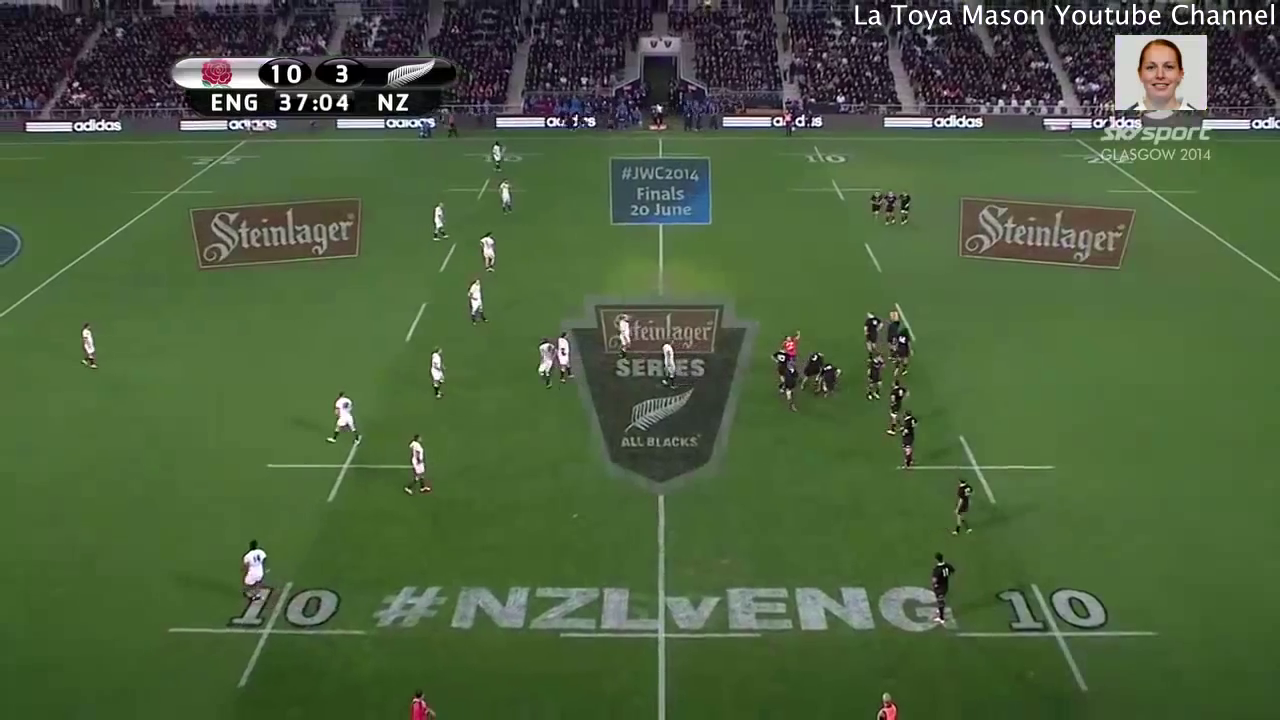10_metre: (936, 570, 1162, 695), (162, 575, 377, 688), (894, 431, 1064, 507), (262, 434, 428, 501), (788, 174, 892, 208), (778, 140, 864, 168)
player: (235, 524, 273, 617), (924, 552, 957, 633), (402, 424, 438, 496), (323, 388, 364, 448), (949, 471, 979, 540), (423, 343, 455, 405), (552, 326, 582, 388), (75, 318, 105, 379), (885, 375, 910, 447), (476, 228, 504, 284), (856, 307, 885, 359), (461, 278, 491, 328), (656, 338, 682, 392), (425, 197, 455, 242), (896, 188, 924, 234), (533, 336, 557, 389), (901, 408, 920, 473), (613, 308, 637, 357), (800, 344, 823, 392), (881, 305, 899, 364), (894, 328, 917, 374), (861, 354, 881, 405), (495, 174, 517, 219), (781, 364, 798, 416), (779, 326, 801, 365), (881, 187, 900, 230), (485, 138, 509, 172), (817, 364, 841, 393), (865, 185, 883, 222), (769, 338, 783, 374)
